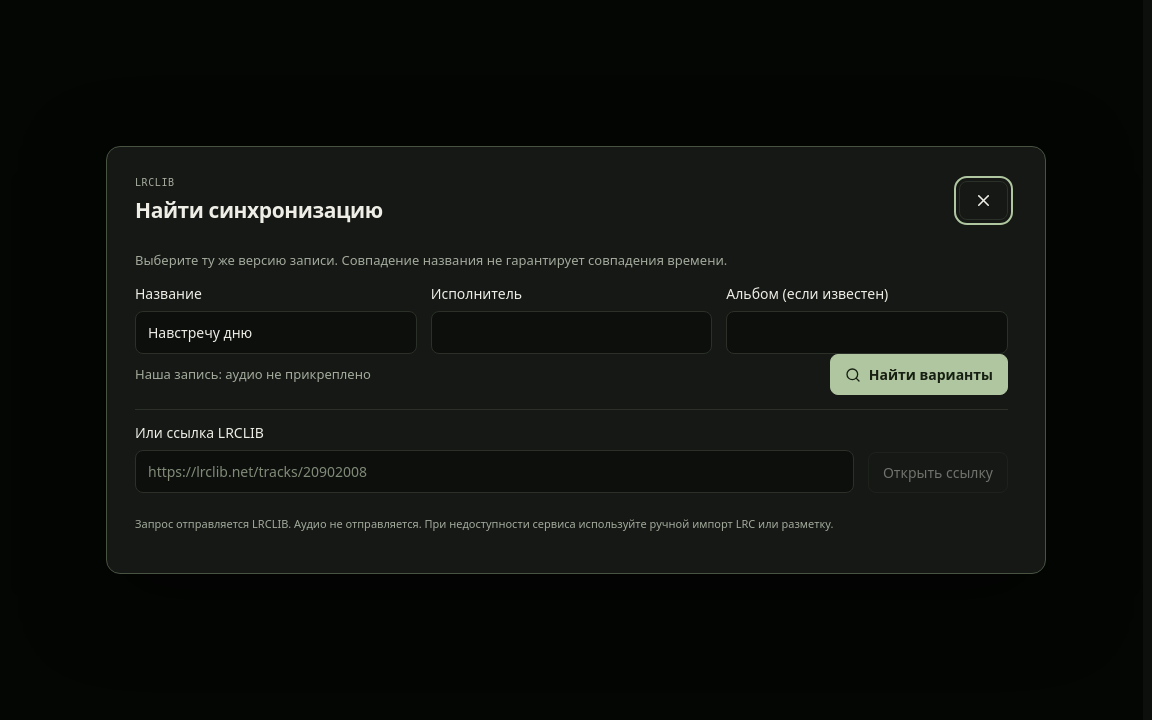
shows an empty search and an upstream error without modifying the song
Click the button "Найти варианты" at point(919, 375), box [830,354,1008,395]
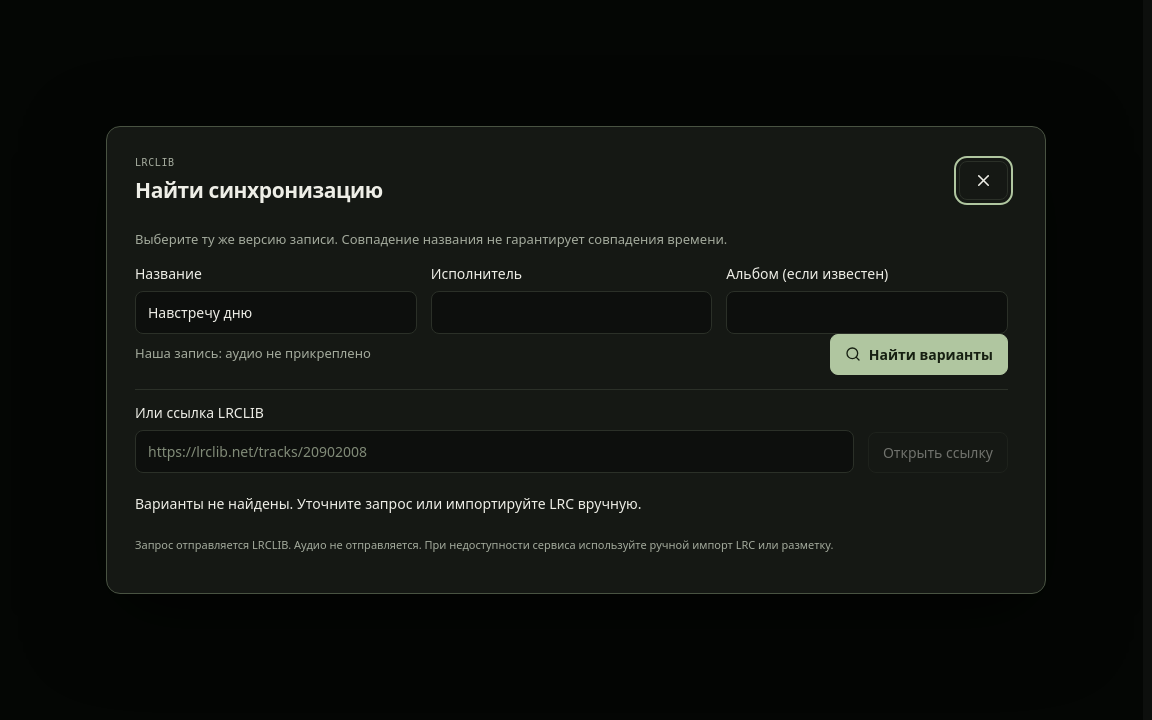
Expected: the text "Варианты не найдены. Уточните запрос или импортируйте LRC вручную." is shown, [135,494,642,513]
Click the button "Найти варианты" at point(919, 354), box [830,334,1008,375]
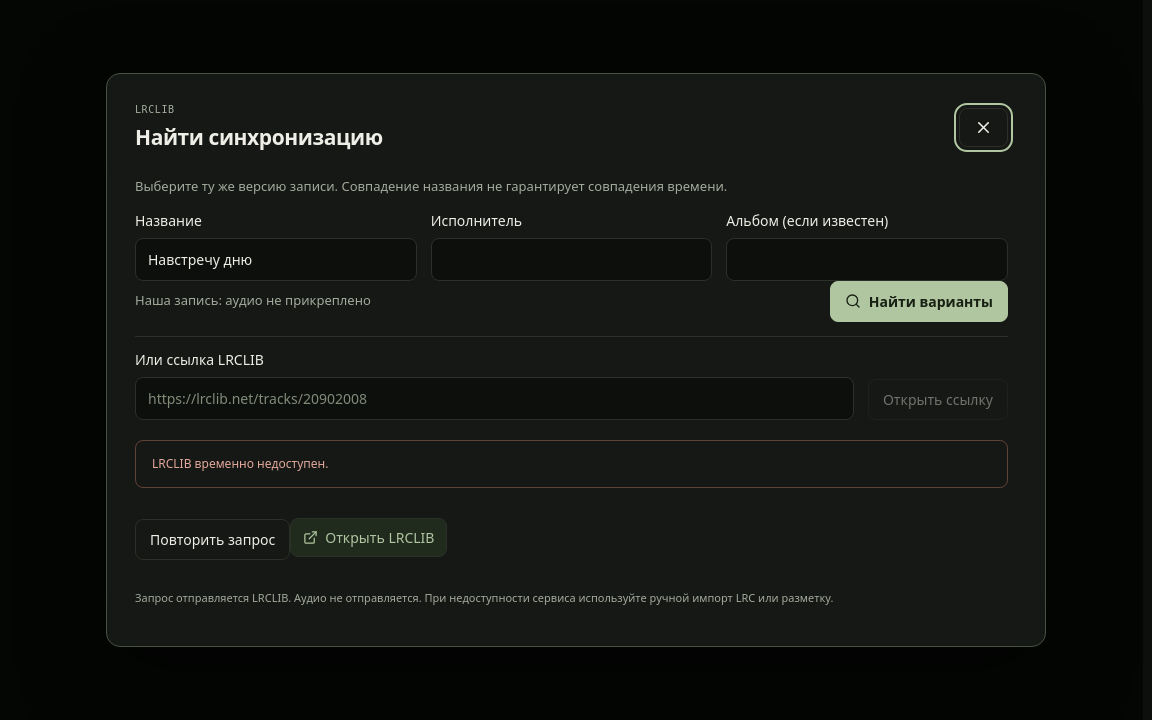
Expected: the message reads "LRCLIB временно недоступен.", [152,455,328,472]
